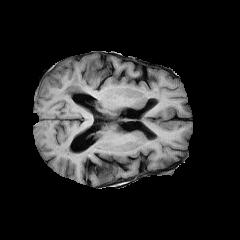glioma: (61, 70, 93, 97)
